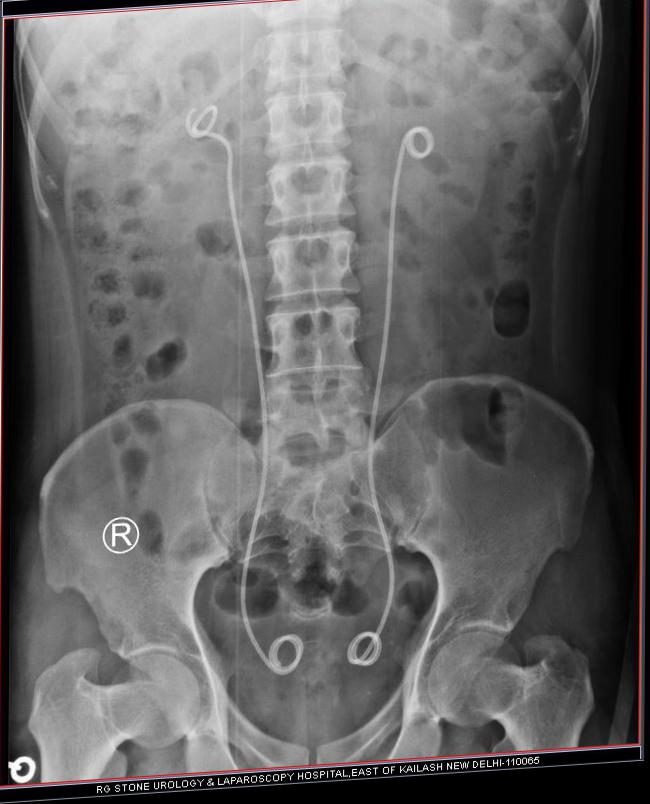bladder: (225, 625, 407, 756)
left kidney: (367, 45, 500, 258)
vertebrae: (259, 90, 355, 163)
